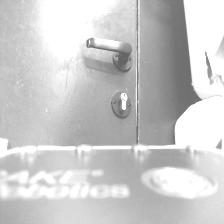Door Handle: (86, 37, 134, 75)
Lock: (110, 90, 134, 120)
